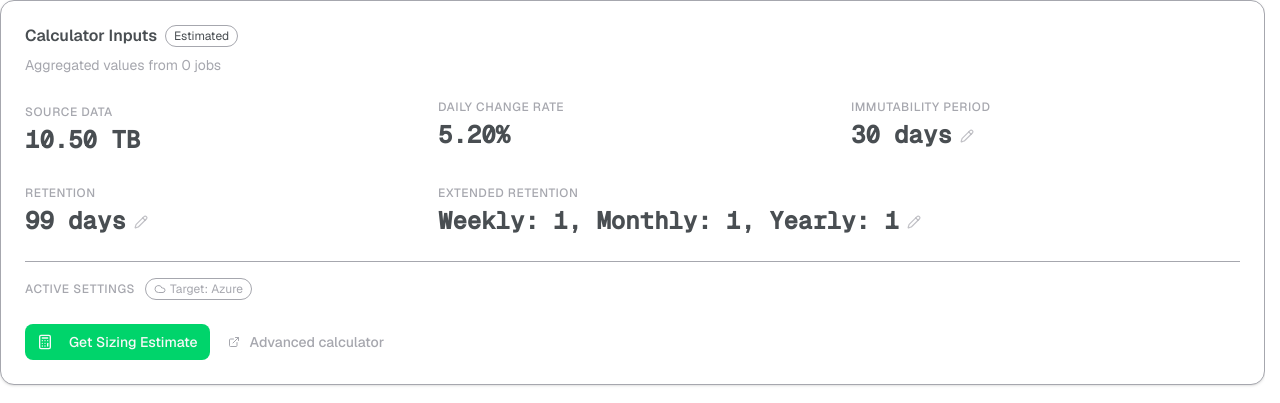
CalculatorInputs › immutability period inline edit › cancel reverts to the previous value and exits edit mode
Click the button named "edit immutability period" at point(967, 136), box [960,129,974,143]
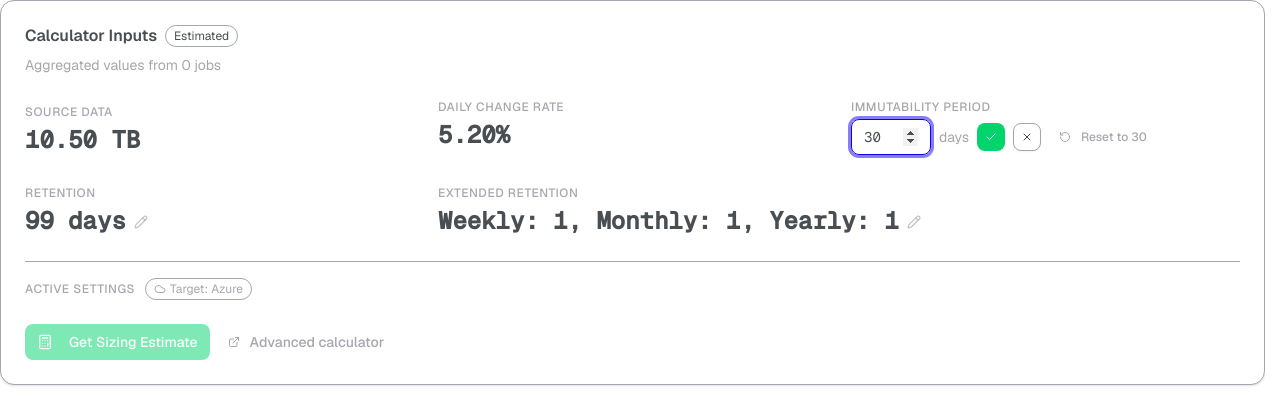
Replace the text in the number field with "14" at point(891, 137), box [851,119,931,155]
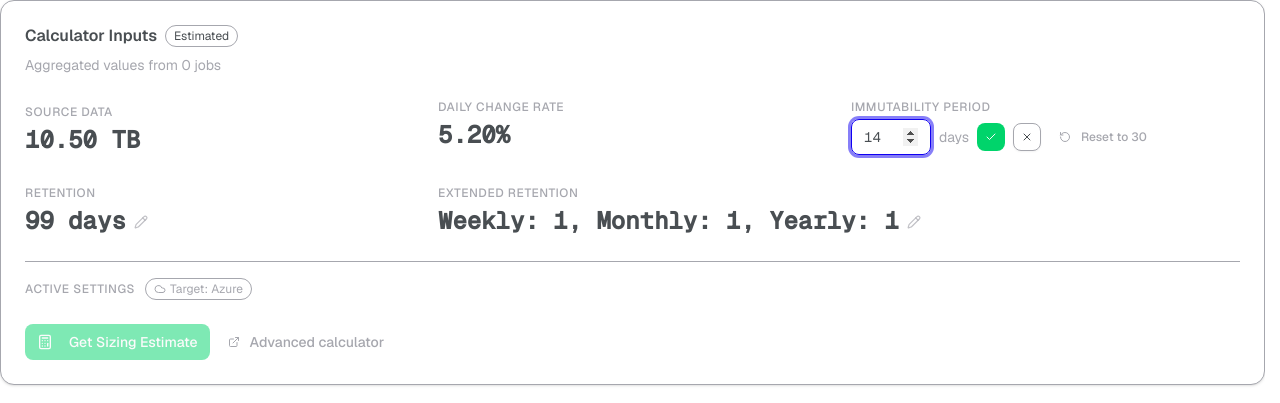
Click the button named "cancel immutability period edit" at point(1027, 137), box [1013,123,1041,151]
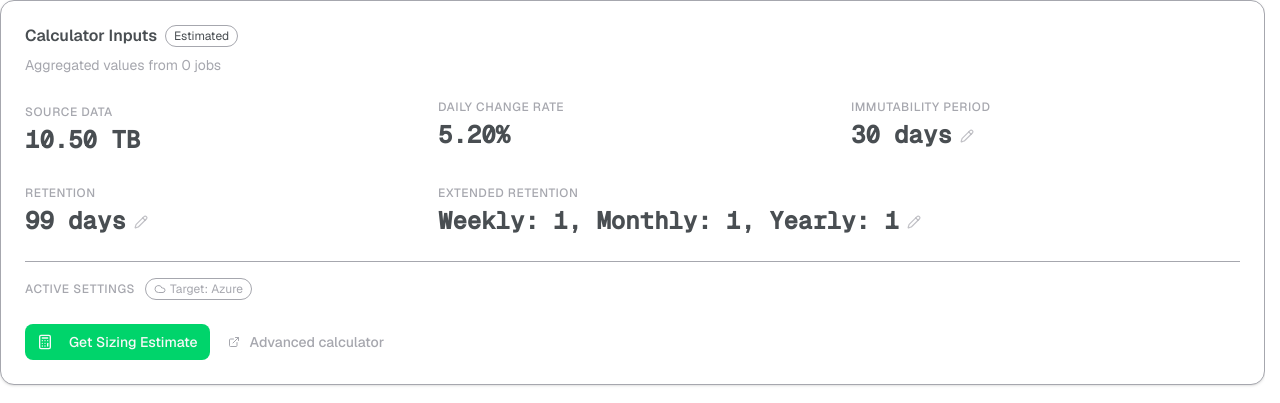
Now the text "30 days" is shown, box [851,119,952,151]
